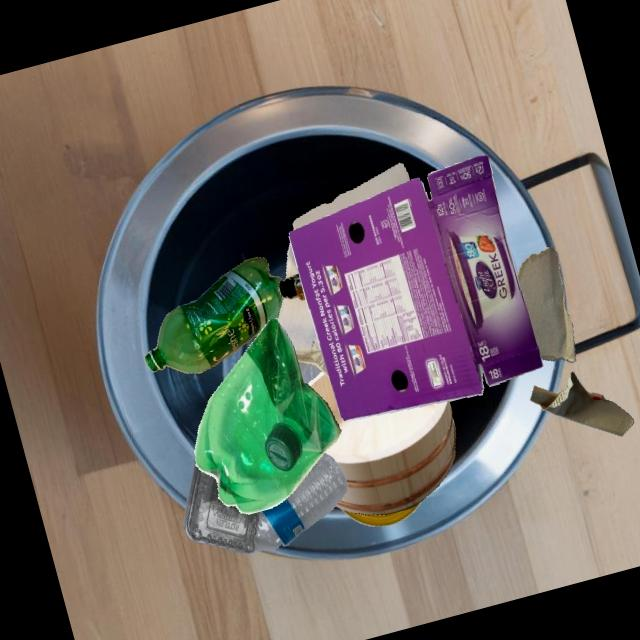cardboard: (289, 154, 543, 421), (516, 246, 575, 362), (530, 371, 634, 436)
combustible waste: (307, 371, 455, 514)
glass: (278, 273, 305, 300), (306, 383, 307, 384)
paper: (292, 162, 409, 230), (277, 297, 329, 378)
plastic: (194, 318, 341, 514), (144, 257, 283, 372), (254, 452, 347, 551), (183, 459, 260, 552), (340, 499, 423, 526)
